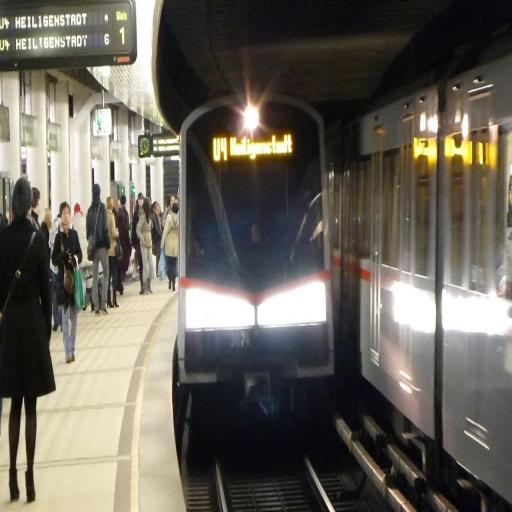V-Wagen: (176, 86, 338, 400)
